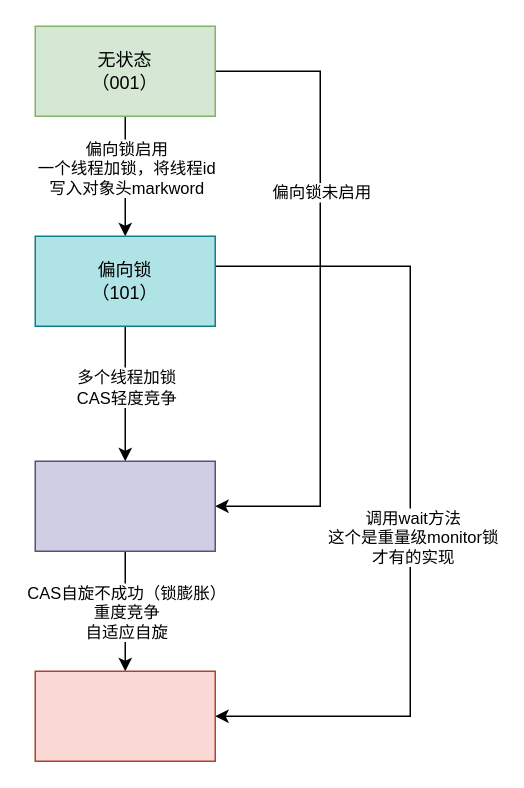
This 524x788 diagram has some shape labels left out. The shapes that lost their labels are listed below. From the top down, each one's box as (x1, y1, x2, y2) in pixels, then its label:
(34, 460, 215, 551): 轻量级锁 （00）
(34, 670, 215, 761): 重量级锁 （10）
